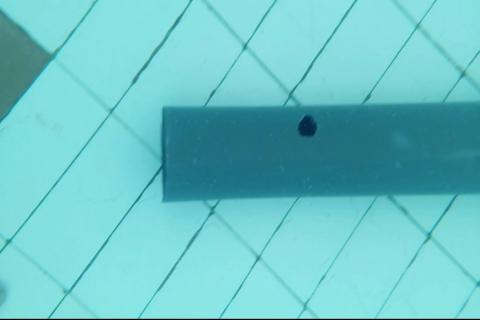kebocoran: (297, 113, 319, 138)
